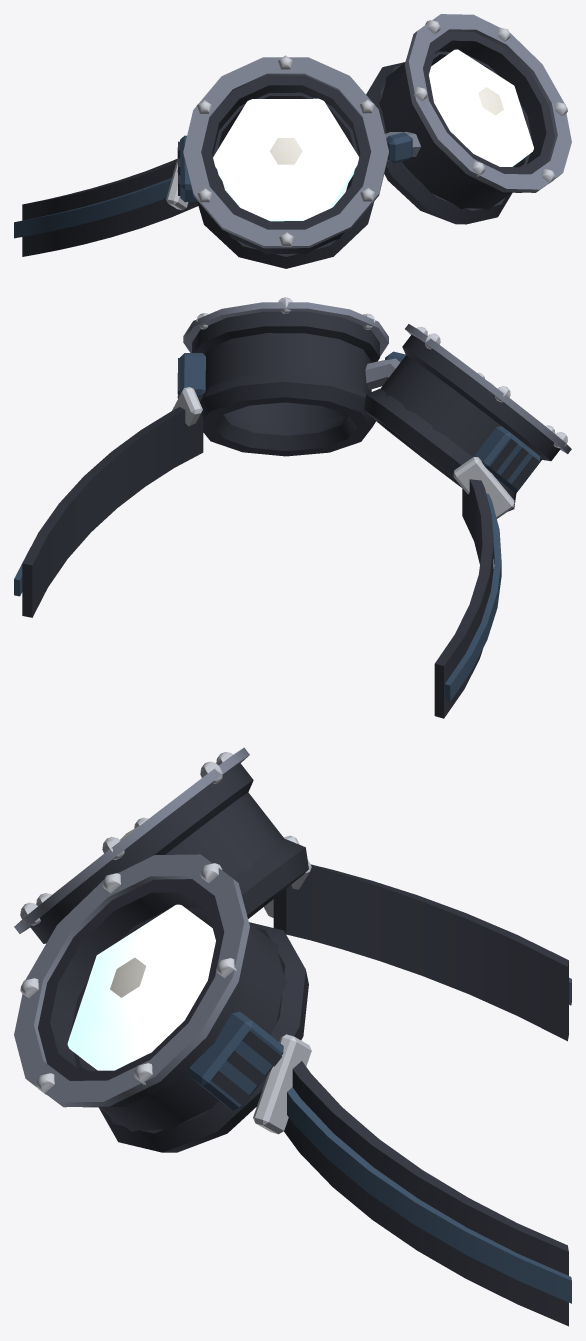
Rendered from prism_goggles.glb.
3 views of the same model, one above another, from view 1: azimuth 30°, elevation 25°; view 2: azimuth 150°, elevation 25°; view 3: azimuth 270°, elevation 25° (orthographic). The views are drawn at different scales.
Visible parts, largest first — view 1: Headgear; view 2: Headgear; view 3: Headgear.
Part boxes in pixels (bbox=[...]): Headgear: bbox=[14, 14, 571, 268]; Headgear: bbox=[14, 297, 571, 718]; Headgear: bbox=[14, 747, 571, 1326].
Bounding box in the file's own units: 0.2285 × 0.1283 × 0.1765.
